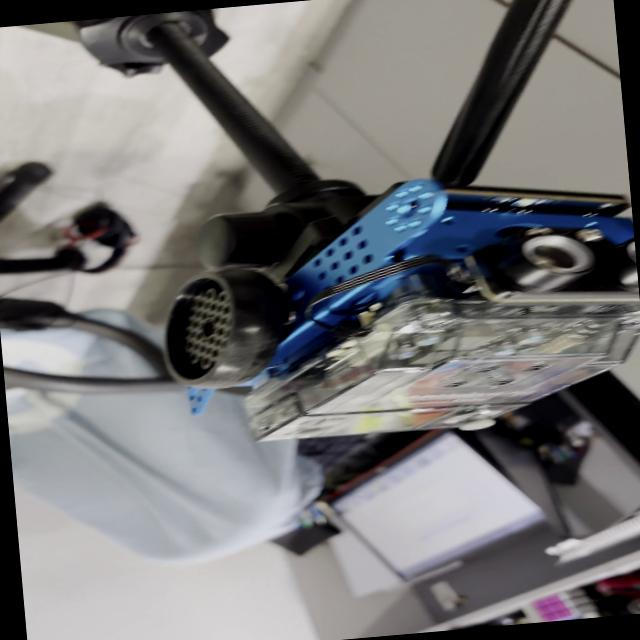mbot-detection: (139, 157, 640, 468)
